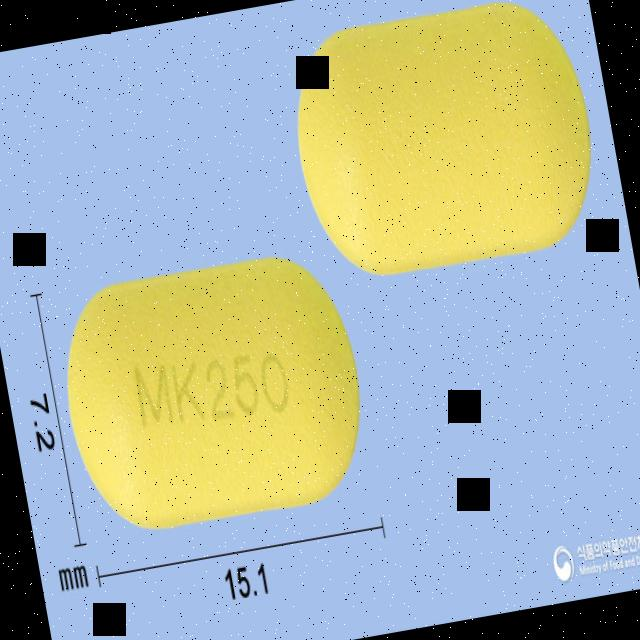Craycin - 500mg: (48, 242, 378, 542)
